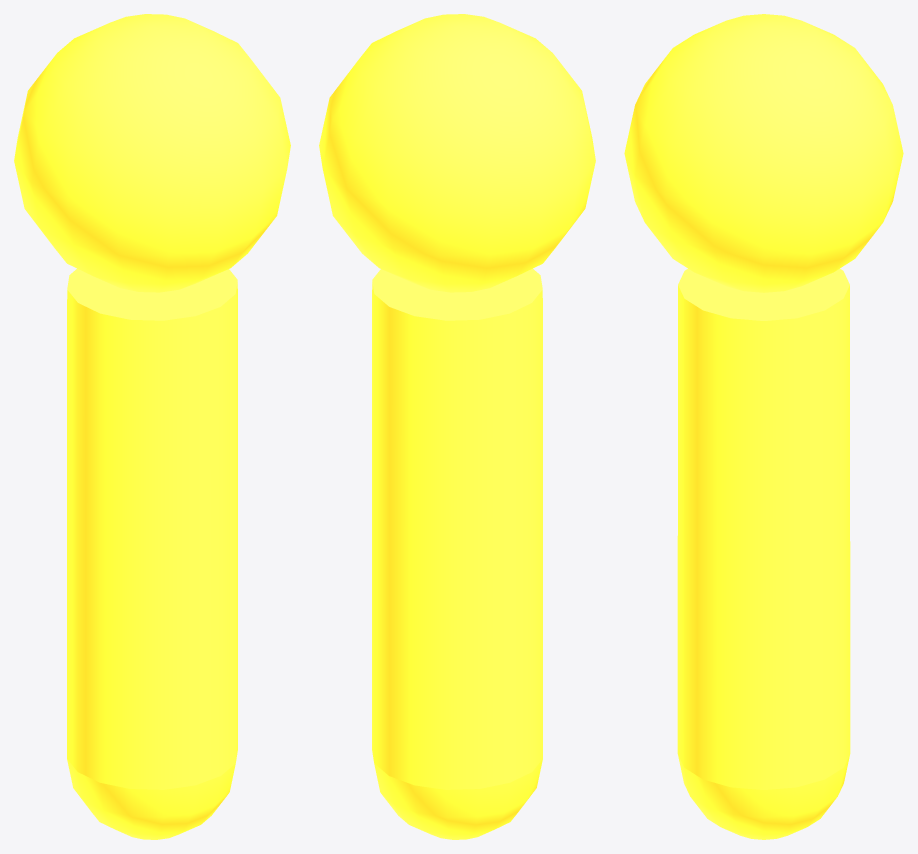
The model's file is rainbow-road-barrier-end-section.glb.
The picture shows the model from 3 angles, left to right: view 1: azimuth 30°, elevation 25°; view 2: azimuth 150°, elevation 25°; view 3: azimuth 270°, elevation 25°; orthographic projection.
Visible parts, largest first — view 1: rainbow road barrier end section; view 2: rainbow road barrier end section; view 3: rainbow road barrier end section.
Boxes of the visible parts, x1,y1,x2,y2 form: rainbow road barrier end section: (14, 14, 290, 839); rainbow road barrier end section: (319, 14, 595, 839); rainbow road barrier end section: (624, 14, 903, 839).
Bounding box in the file's own units: 0.649 × 2.06 × 0.649.
